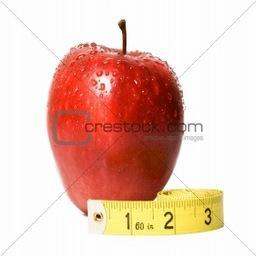apple: (46, 40, 186, 215)
